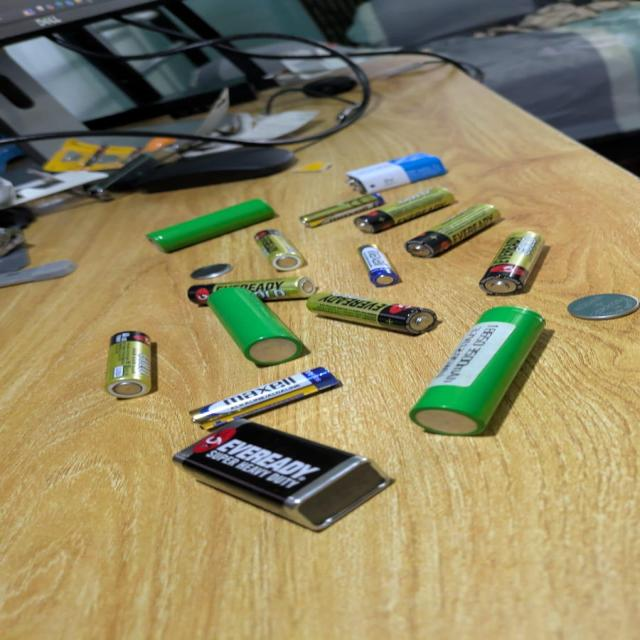9V: (170, 418, 390, 528), (342, 153, 447, 195)
AA: (304, 292, 441, 334), (404, 203, 502, 258), (347, 187, 458, 235), (478, 232, 547, 295), (185, 276, 318, 306), (104, 332, 154, 397), (252, 230, 308, 272)
AAA: (185, 362, 350, 433), (293, 192, 392, 231), (350, 240, 403, 291)
COIN: (564, 293, 640, 320), (188, 262, 235, 280)
